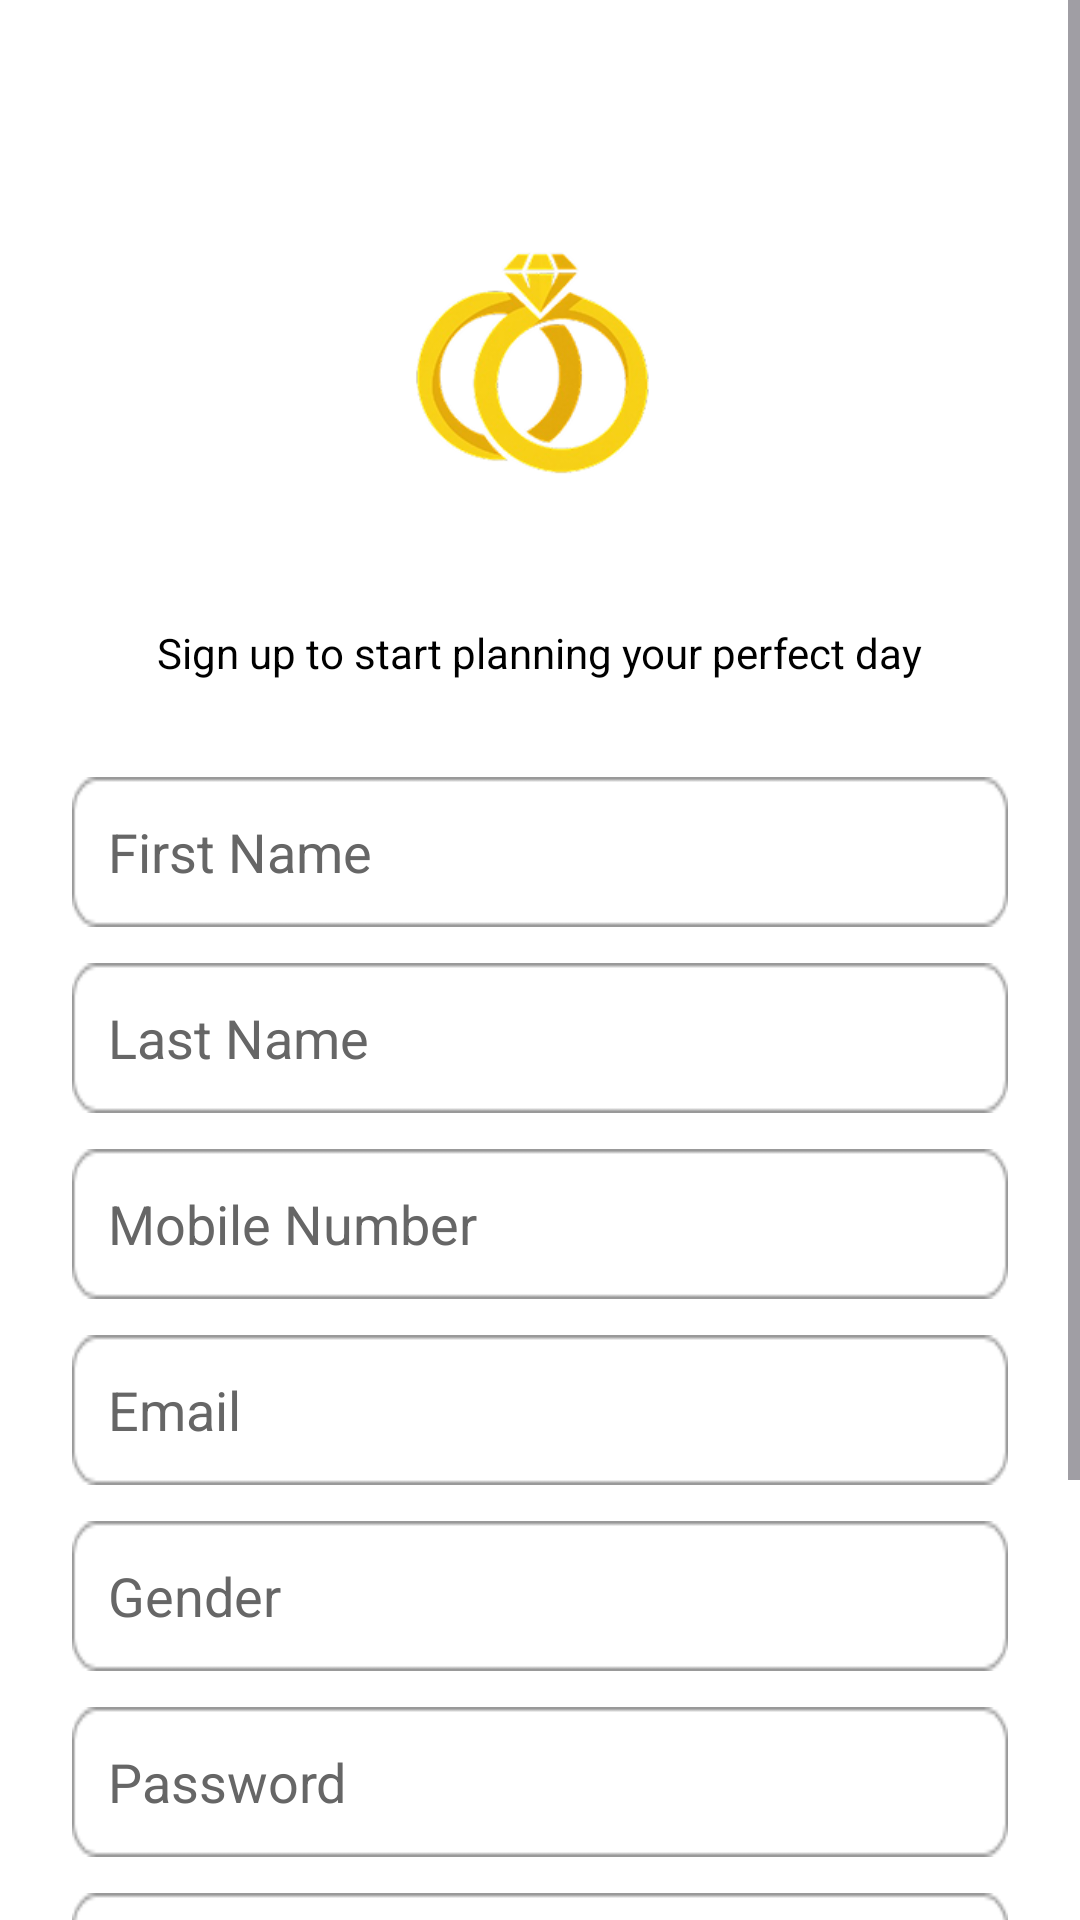

Named icons in this screenshot (1080w x 1920h) and their centers, point (x, y):
ring: point (532, 363)
